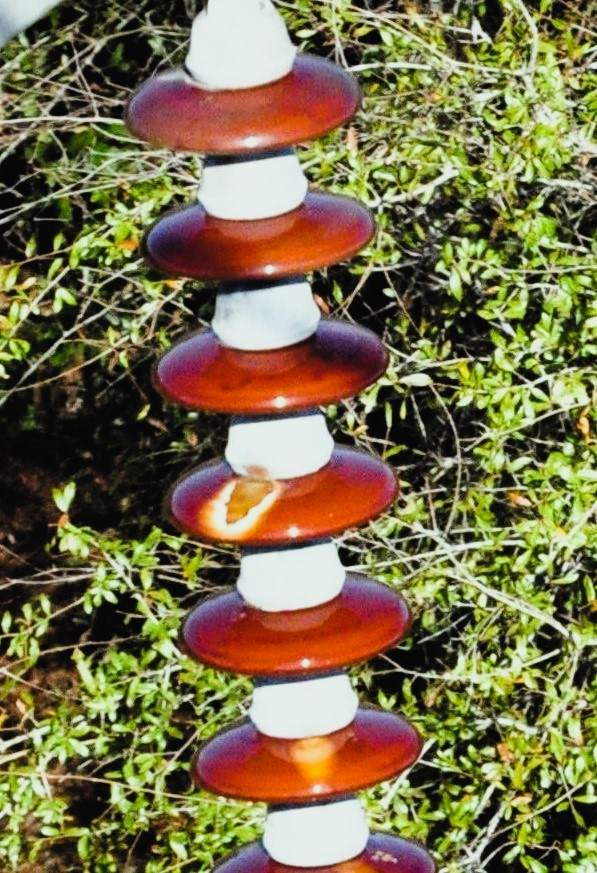Insulator flashover: (160, 433, 405, 558)
